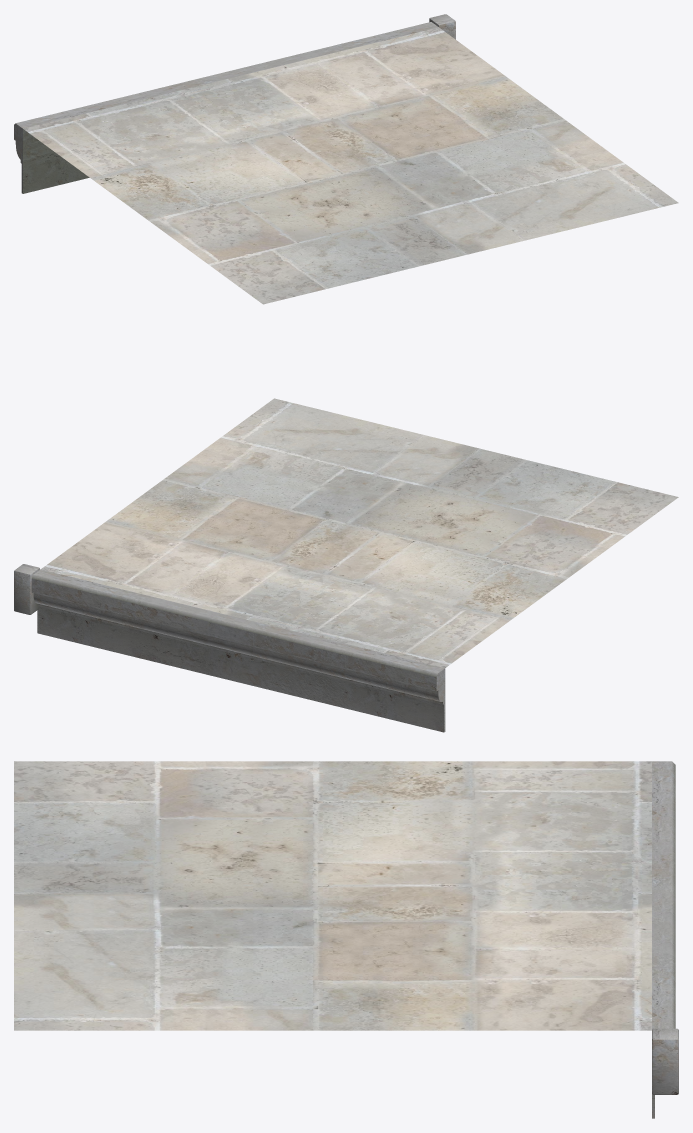
The model's file is floor.glb.
3 views of the same model, one above another, from view 1: azimuth 30°, elevation 25°; view 2: azimuth 150°, elevation 25°; view 3: azimuth 270°, elevation 25° (orthographic). The views are drawn at different scales.
Parts seen in each view (by area): view 1: slab_top, edge_cornice; view 2: slab_top, edge_cornice, corner_inner; view 3: slab_top, edge_cornice, corner_inner.
Part boxes in pixels (x1,y1,x2,y2): slab_top: (23,27,678,304); edge_cornice: (14,22,438,193); slab_top: (41,398,678,667); edge_cornice: (31,569,445,732); corner_inner: (14,564,39,614); slab_top: (14,761,651,1030); edge_cornice: (652,761,675,1029); corner_inner: (652,1028,678,1094).
Bounding box in the file's own units: 4.17 × 0.62 × 4.17.
Materials: 2 (2 with a texture image).
